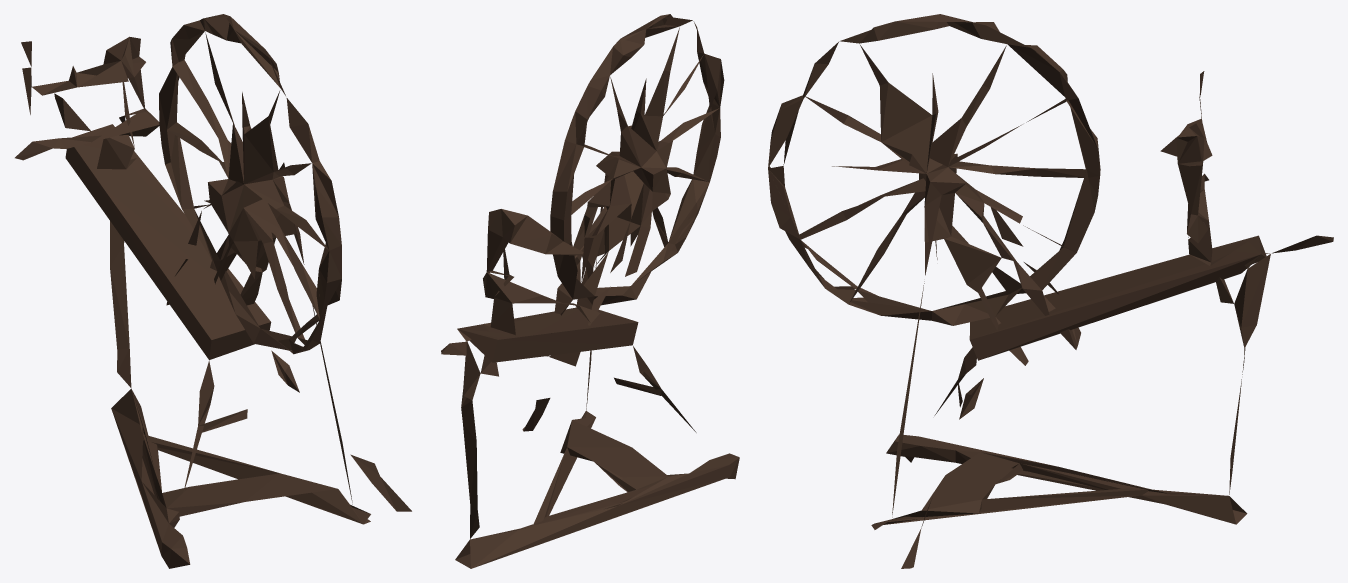
Rendered from spinning-wheel-lod1.glb.
3 views of the same model, side by side, from view 1: azimuth 30°, elevation 25°; view 2: azimuth 150°, elevation 25°; view 3: azimuth 270°, elevation 25° (orthographic). The views are drawn at different scales.
Size of the model in its own units: 0.4832 by 0.9622 by 1.02.
